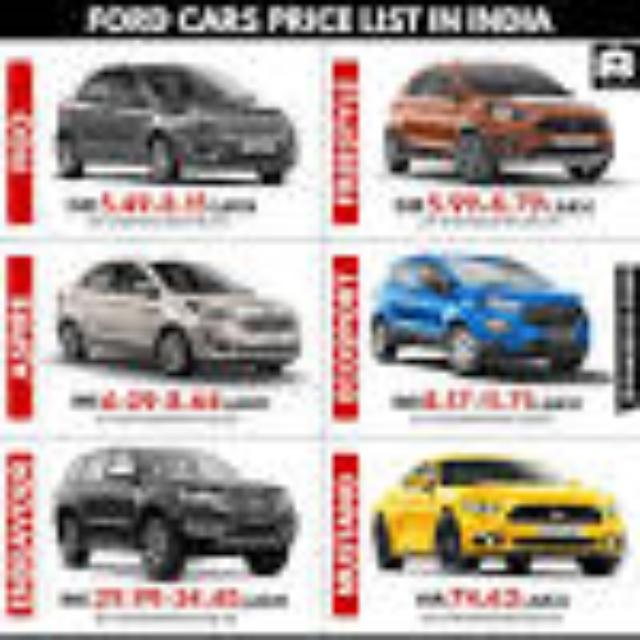ford: (52, 448, 300, 584), (372, 454, 628, 578), (54, 64, 300, 184), (56, 260, 302, 376), (382, 64, 614, 184), (371, 255, 589, 378)
